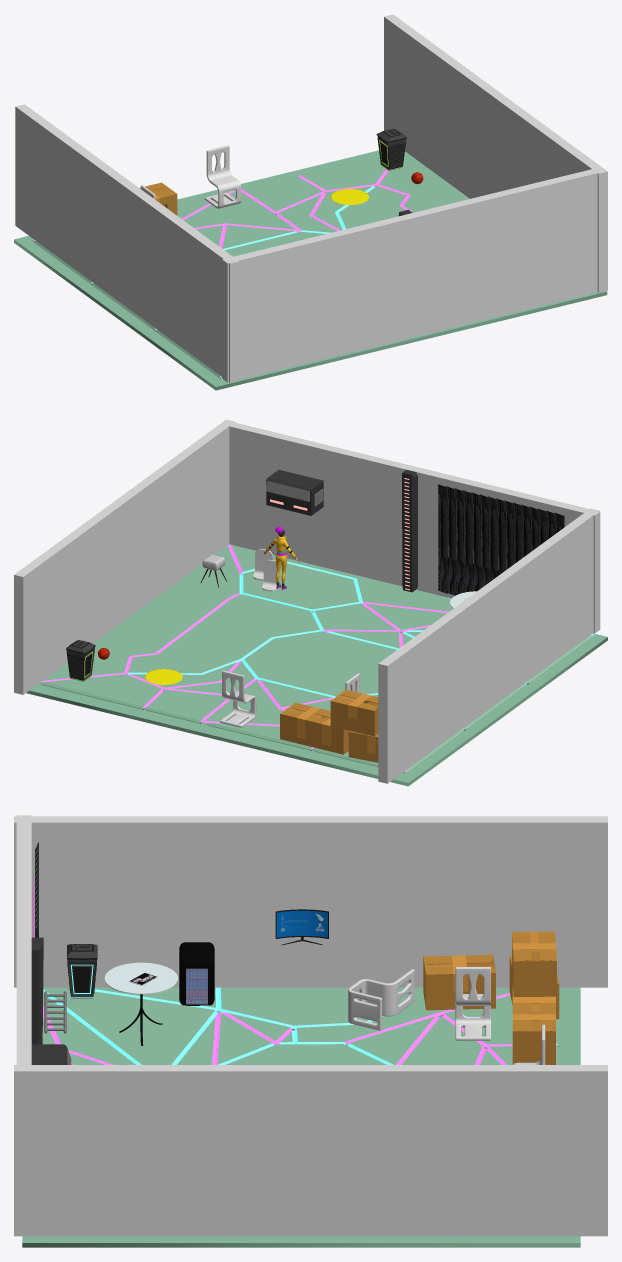
Rendered from GaragemV2_005.2.fbx.
The picture shows the model from 3 angles, top to bottom: view 1: azimuth 30°, elevation 25°; view 2: azimuth 150°, elevation 25°; view 3: azimuth 270°, elevation 25°; orthographic projection. The views are drawn at different scales.
Visible parts, largest first — view 1: Cube.008, Cube.010, Cube.009, Plane, Plane.002, Cadeira_curva.001, LIxo, Cube.017, Player_Spaw; view 2: Plane, Cube.010, Cube.009, Cube.008, Cube.013, Plane.002, Cube.017, Cube.011, Cube.020, Cube.014, Cadeira_curva.001, LIxo (+3 smaller); view 3: Cube.009, Cube.010, Plane, Plane.002, Cube.008, Cube.020, Cube.017, Cube.018, Cadeira_curva.002, Cube.004, Cadeira_curva, MesaRedonda (+5 smaller).
Part boxes in pixels (x1=…): Cube.008: x1=222, y1=169, x2=598, y2=382; Cube.010: x1=15, y1=104, x2=239, y2=382; Cube.009: x1=384, y1=14, x2=607, y2=292; Plane: x1=32, y1=151, x2=469, y2=380; Plane.002: x1=14, y1=150, x2=607, y2=390; Cadeira_curva.001: x1=204, y1=145, x2=241, y2=208; LIxo: x1=376, y1=128, x2=406, y2=170; Cube.017: x1=139, y1=182, x2=177, y2=215; Player_Spaw: x1=331, y1=189, x2=368, y2=204; Plane: x1=40, y1=544, x2=594, y2=773; Cube.010: x1=378, y1=508, x2=599, y2=783; Cube.009: x1=14, y1=419, x2=235, y2=694; Cube.008: x1=228, y1=422, x2=600, y2=633; Cube.013: x1=438, y1=484, x2=564, y2=595; Plane.002: x1=26, y1=544, x2=607, y2=786; Cube.017: x1=280, y1=702, x2=348, y2=754; Cube.011: x1=266, y1=469, x2=323, y2=515; Cube.020: x1=330, y1=689, x2=378, y2=736; Cube.014: x1=402, y1=469, x2=417, y2=592; Cadeira_curva.001: x1=220, y1=670, x2=256, y2=727; LIxo: x1=66, y1=640, x2=95, y2=681; Cube.009: x1=14, y1=1065, x2=607, y2=1236; Cube.010: x1=14, y1=816, x2=607, y2=987; Plane: x1=42, y1=987, x2=559, y2=1064; Plane.002: x1=22, y1=987, x2=580, y2=1247; Cube.008: x1=16, y1=815, x2=31, y2=1066; Cube.020: x1=512, y1=931, x2=556, y2=997; Cube.017: x1=512, y1=988, x2=555, y2=1064; Cube.018: x1=423, y1=954, x2=495, y2=1010; Cadeira_curva.002: x1=348, y1=969, x2=414, y2=1030; Cube.004: x1=179, y1=942, x2=214, y2=1005; Cadeira_curva: x1=455, y1=967, x2=490, y2=1040; MesaRedonda: x1=104, y1=962, x2=177, y2=1045.
Bounding box in the file's own units: 1179 × 364 × 1121.
